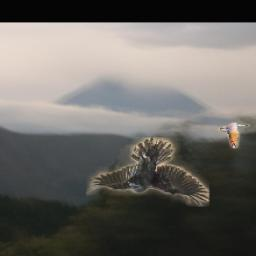Crow: (86, 137, 209, 206)
Cuckoo: (218, 122, 250, 149)
